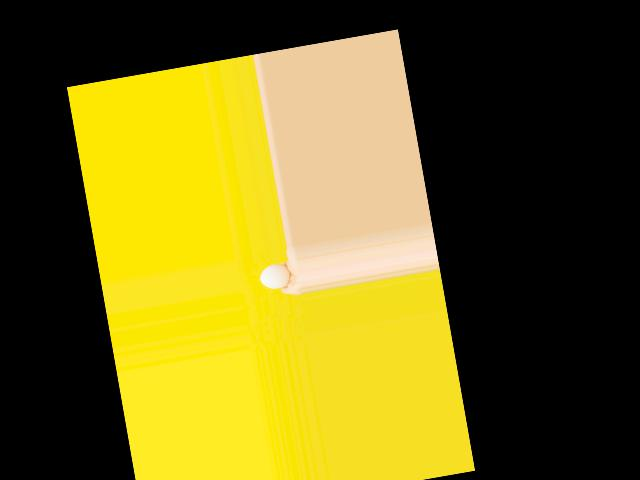egg: (258, 263, 292, 291)
